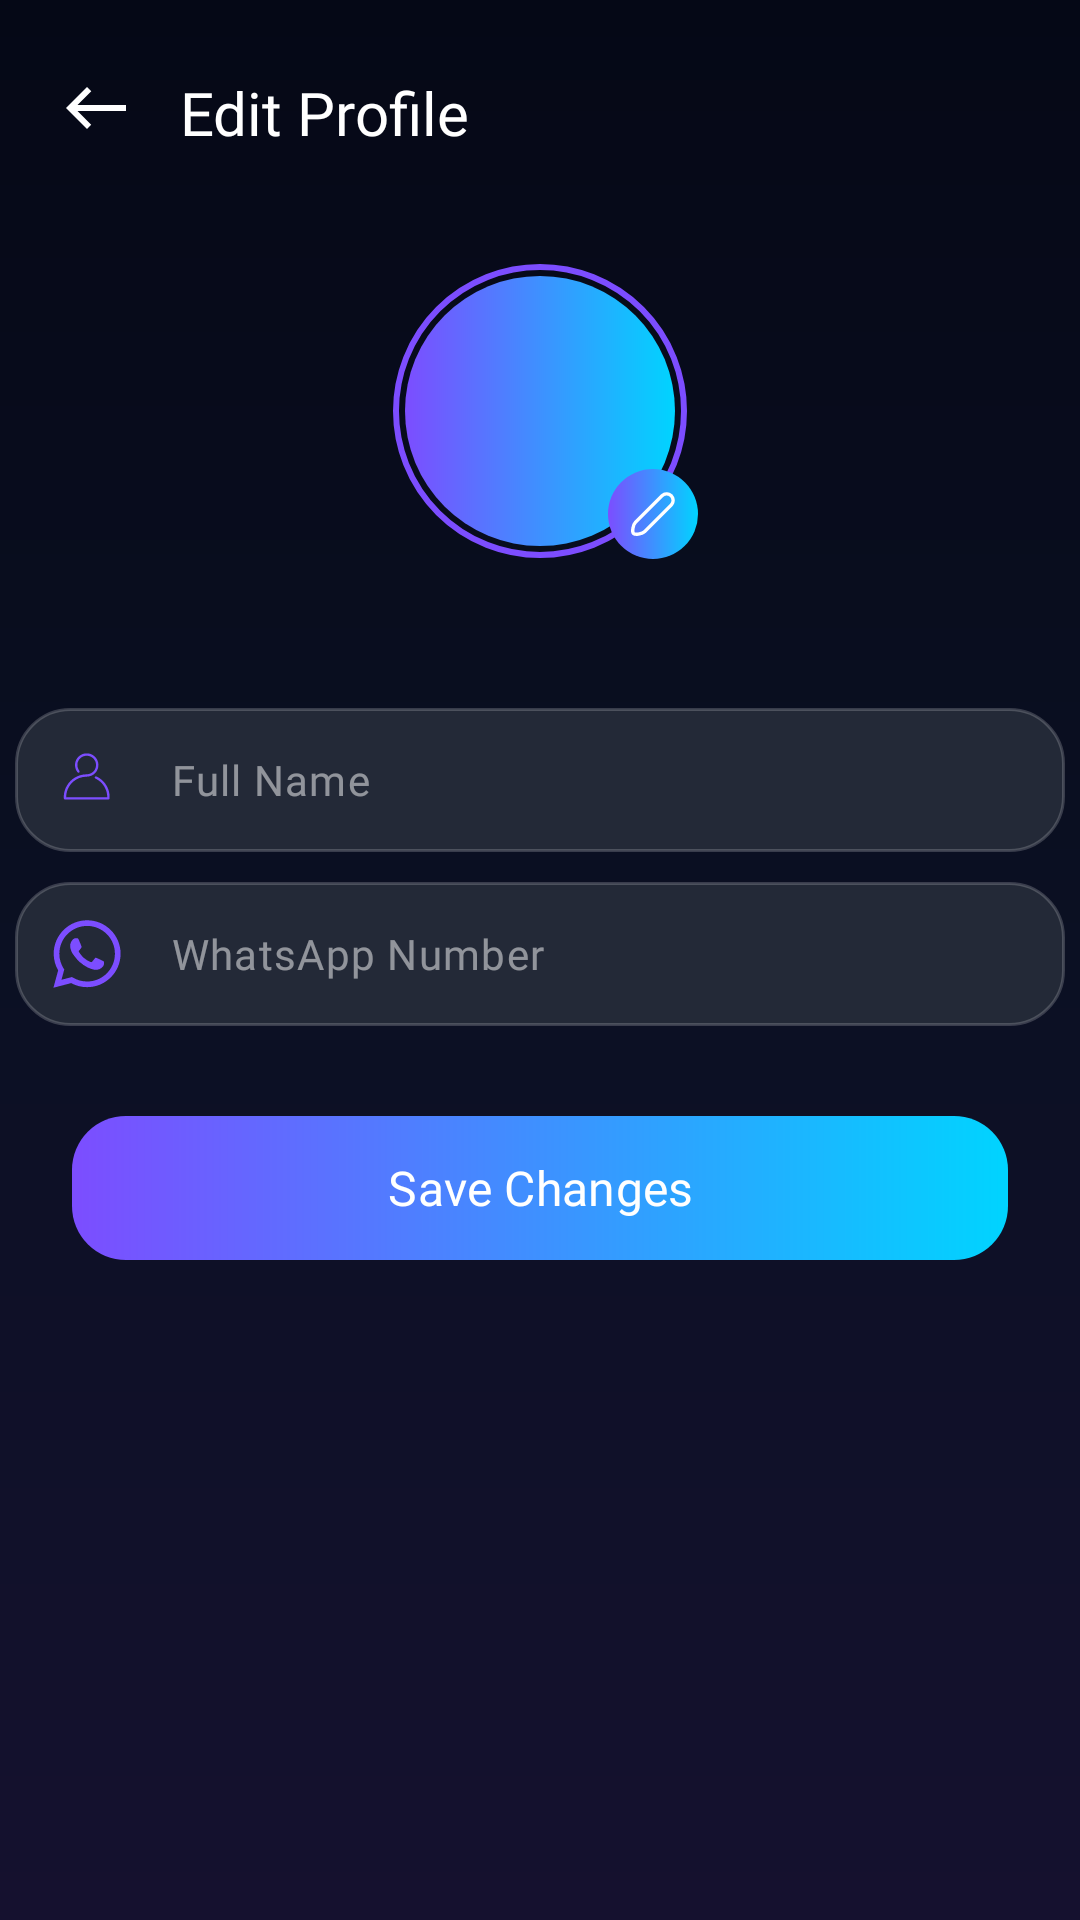

Named icons in this screenshot (1080x1920) and their bounding boxes, detection(x1, y1, x2, y2):
edit camera: detection(608, 469, 698, 559)
